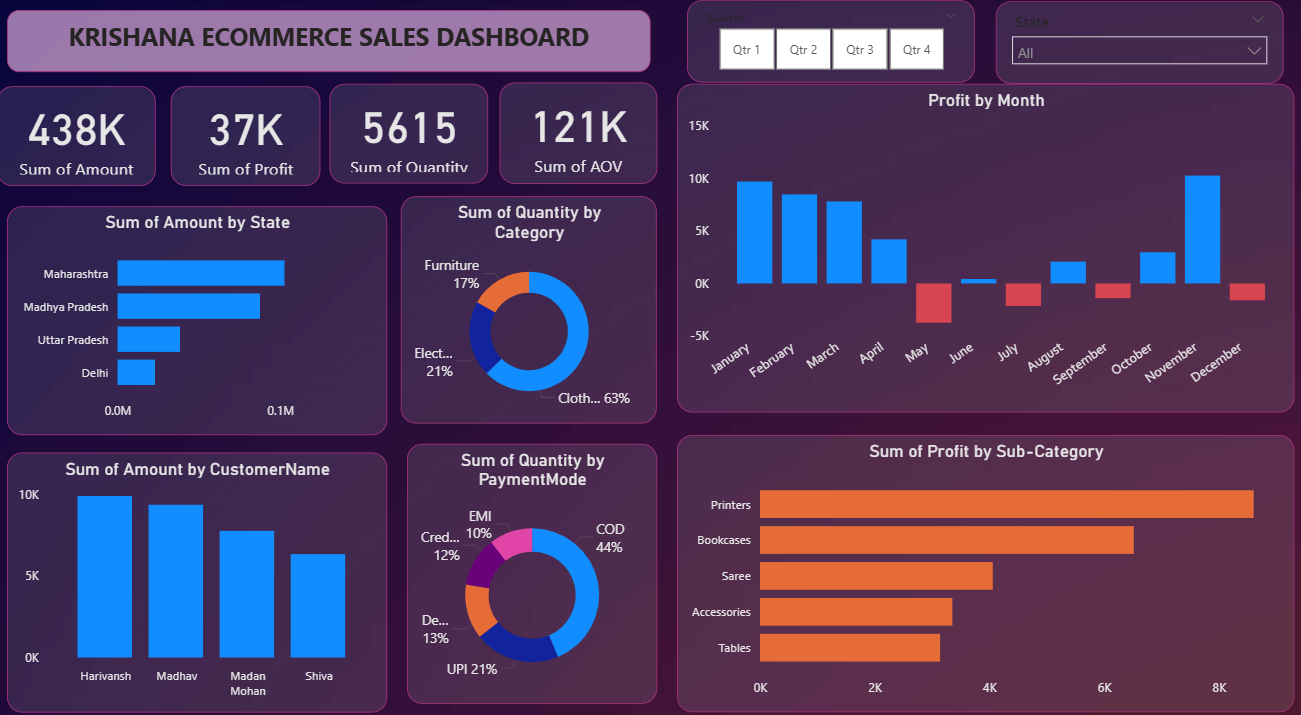

This screenshot's page, from the dashboard's own definition file:
{"tool":"powerbi","page":{"name":"Page 1","canvas":[1280,720],"ordinal":0},"visuals":[{"type":"textbox","box":[9.8,9.8,629.8,61.1],"z":0},{"type":"columnChart","title":"Profit by Month","fields":{"Category":["Orders.Order Date.Variation.Date Hierarchy.Month"],"Y":["Details.Profit"]},"box":[665.2,81.9,604.1,321.6],"z":1000},{"type":"barChart","fields":{"Category":["Details.Sub-Category"],"Y":["Details.Profit"]},"box":[665.2,425.5,604.1,271.5],"z":2000},{"type":"donutChart","fields":{"Category":["Details.Category"],"Y":["Details.Quantity"]},"box":[395,192,250.7,222.6],"z":3000},{"type":"donutChart","fields":{"Y":["Details.Quantity"],"Category":["Details.PaymentMode"]},"box":[401.1,434.1,244.6,254.3],"z":4000},{"type":"card","fields":{"Values":["Details.Amount"]},"box":[0,84.4,155.3,97.8],"z":5000},{"type":"card","fields":{"Values":["Details.Profit"]},"box":[170,84.4,146.7,97.8],"z":6000},{"type":"card","fields":{"Values":["Details.Quantity"]},"box":[325.3,81.9,155.3,97.8],"z":7000},{"type":"card","fields":{"Values":["Details.AOV"]},"box":[491.6,80.7,154.1,99],"z":8000},{"type":"barChart","fields":{"Category":["Orders.State"],"Y":["Details.Amount"]},"box":[9.6,201.7,371.9,223.7],"z":9000},{"type":"columnChart","fields":{"Category":["Orders.CustomerName"],"Y":["Details.Amount"]},"box":[9.8,442.7,371.7,254.3],"z":10000},{"type":"slicer","fields":{"Values":["Orders.Order Date.Variation.Date Hierarchy.Quarter"]},"box":[675.1,0,281.3,81],"z":11000},{"type":"slicer","fields":{"Values":["Orders.State"]},"box":[977,1.4,281.3,81],"z":12000}]}

Visuals, with their boxes in screenshot pixels (x1, y1, x2, y2), scaled from the page's 1280x720 canvas onto the 1301x715 screenshot:
textbox: pyautogui.locateOnScreen(10, 10, 650, 70)
"Profit by Month" columnChart: pyautogui.locateOnScreen(676, 81, 1290, 401)
barChart - Details.Sub-Category x Details.Profit: pyautogui.locateOnScreen(676, 423, 1290, 692)
donutChart - Details.Category x Details.Quantity: pyautogui.locateOnScreen(401, 191, 656, 412)
donutChart - Details.Quantity x Details.PaymentMode: pyautogui.locateOnScreen(408, 431, 656, 684)
card - Details.Amount: pyautogui.locateOnScreen(0, 84, 158, 181)
card - Details.Profit: pyautogui.locateOnScreen(173, 84, 322, 181)
card - Details.Quantity: pyautogui.locateOnScreen(331, 81, 488, 178)
card - Details.AOV: pyautogui.locateOnScreen(500, 80, 656, 178)
barChart - Orders.State x Details.Amount: pyautogui.locateOnScreen(10, 200, 388, 422)
columnChart - Orders.CustomerName x Details.Amount: pyautogui.locateOnScreen(10, 440, 388, 692)
slicer - Orders.Order Date.Variation.Date Hierarchy.Quarter: pyautogui.locateOnScreen(686, 0, 972, 80)
slicer - Orders.State: pyautogui.locateOnScreen(993, 1, 1279, 82)
